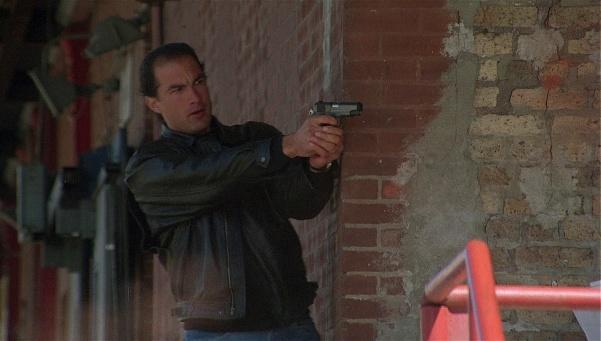Gun: (312, 98, 365, 122)
